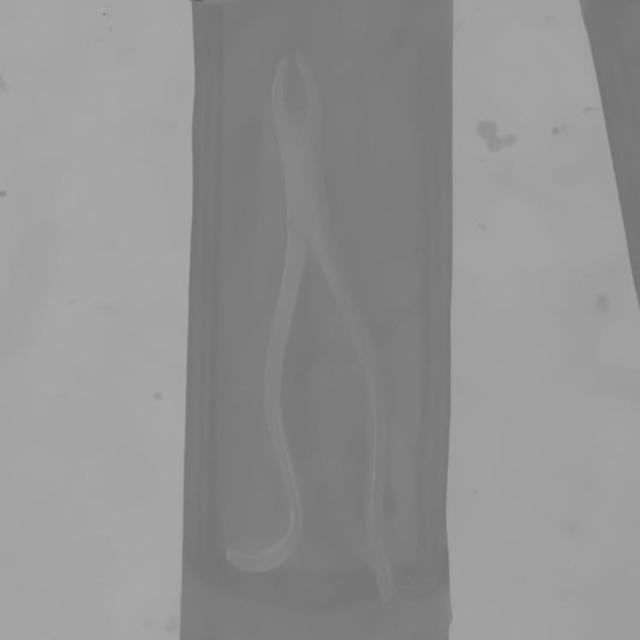forceps: (236, 30, 400, 613)
